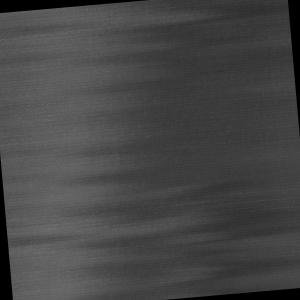Wrinkle: (3, 164, 300, 300), (95, 1, 295, 95)
